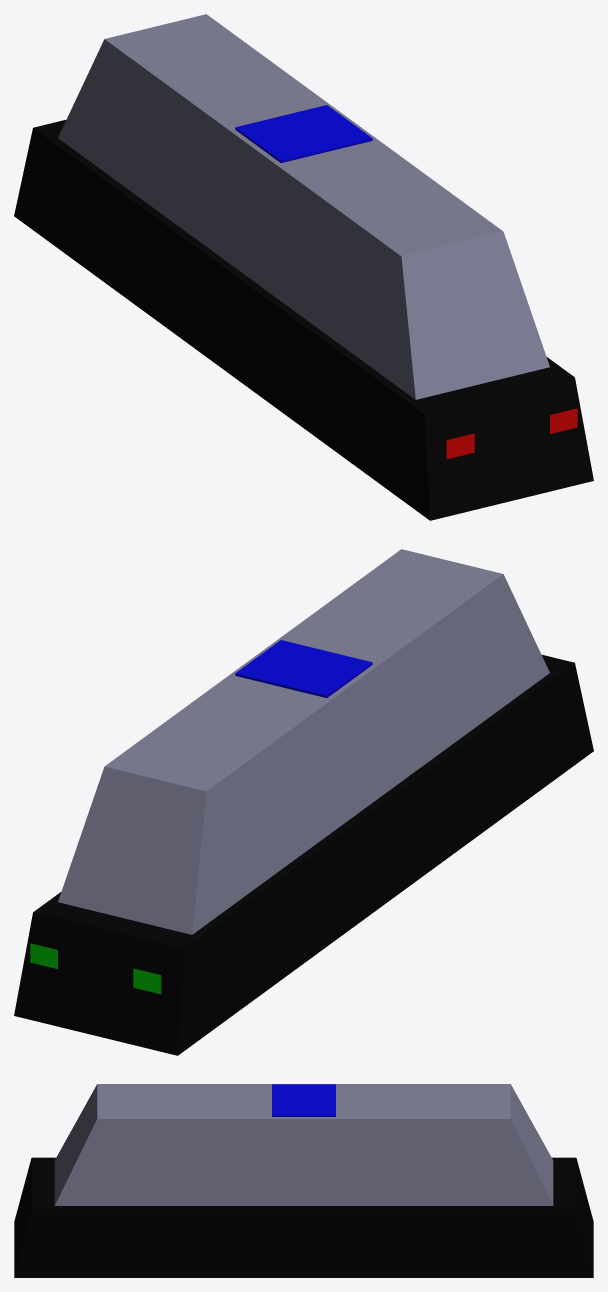
File: veh_bus_lod1.glb
3 views of the same model, one above another, from view 1: azimuth 30°, elevation 25°; view 2: azimuth 150°, elevation 25°; view 3: azimuth 270°, elevation 25° (orthographic). The views are drawn at different scales.
Parts seen in each view (by area): view 1: veh_bus_lod1; view 2: veh_bus_lod1; view 3: veh_bus_lod1.
Boxes of the visible parts, x1,y1,x2,y2 form: veh_bus_lod1: (14, 14, 593, 520); veh_bus_lod1: (14, 549, 593, 1055); veh_bus_lod1: (14, 1084, 593, 1277).
Size of the model in its own units: 2.5 by 3.14 by 11.01.
